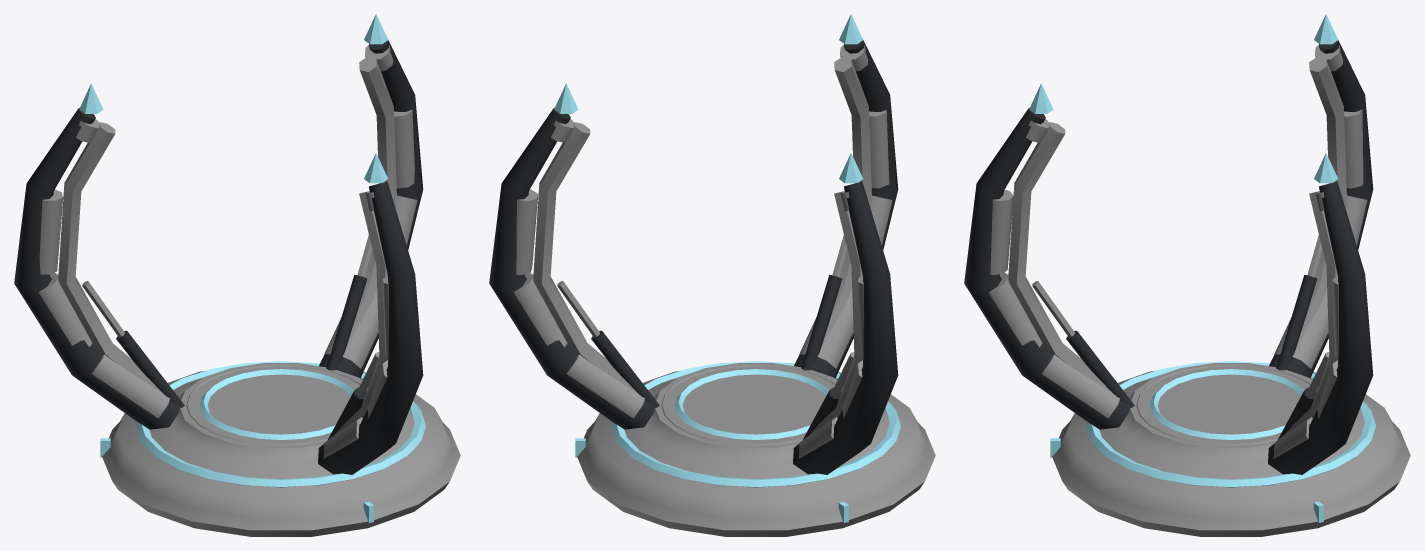
The model's file is Monument_CoreHolder.fbx.
3 views of the same model, side by side, from view 1: azimuth 30°, elevation 25°; view 2: azimuth 150°, elevation 25°; view 3: azimuth 270°, elevation 25° (orthographic).
Visible parts, largest first — view 1: Monument_CoreHolder_LOD0; view 2: Monument_CoreHolder_LOD0; view 3: Monument_CoreHolder_LOD0.
Boxes of the visible parts, <box> form: Monument_CoreHolder_LOD0: <box>14,14,460,536</box>; Monument_CoreHolder_LOD0: <box>489,14,935,536</box>; Monument_CoreHolder_LOD0: <box>964,14,1410,536</box>.
Size of what is drawn, in the model's own units: 2.28 by 2.06 by 2.19.
